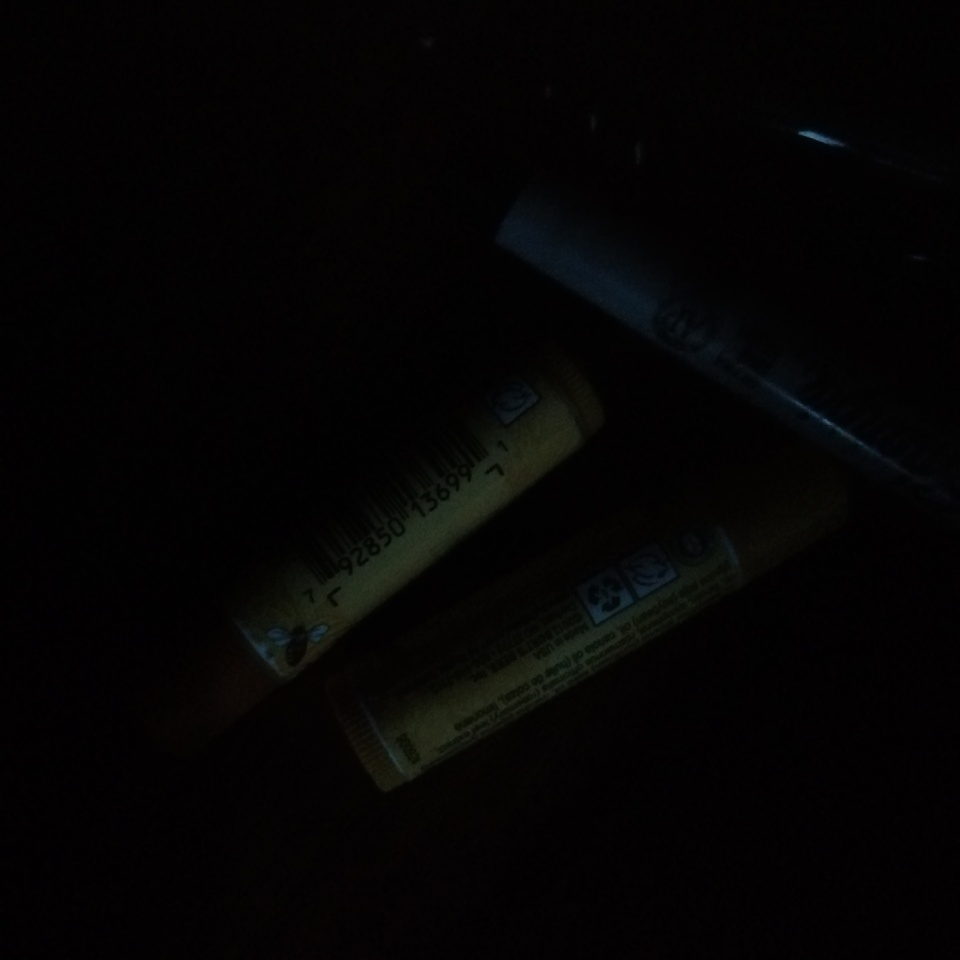chapstick: (343, 477, 805, 793), (229, 363, 613, 689)
